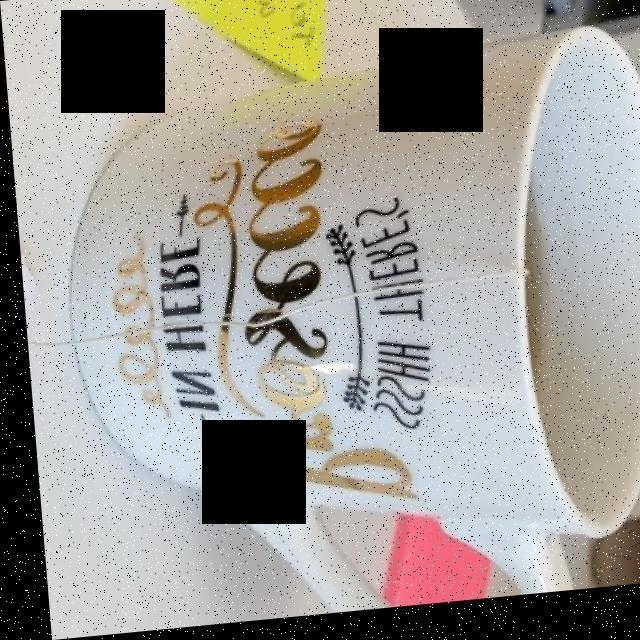tea: (524, 173, 553, 393)
